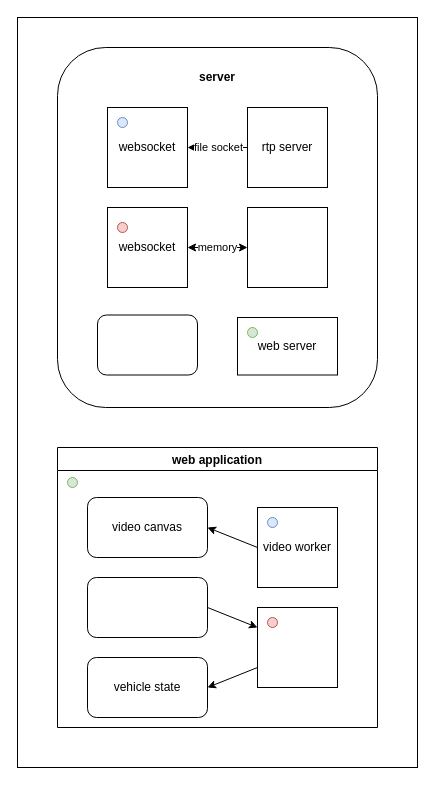
This 435x785 diagram has some shape labels left out. Here are the shapes that lost their labels. From the top down, the box of each, then its label:
(246, 206, 328, 288): tcp client
(96, 314, 198, 375): nginx
(86, 576, 208, 638): gamepad
(256, 606, 338, 688): data worker
